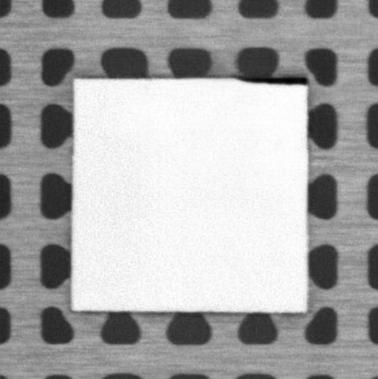DIE_BROKEN: (233, 74, 310, 86)
